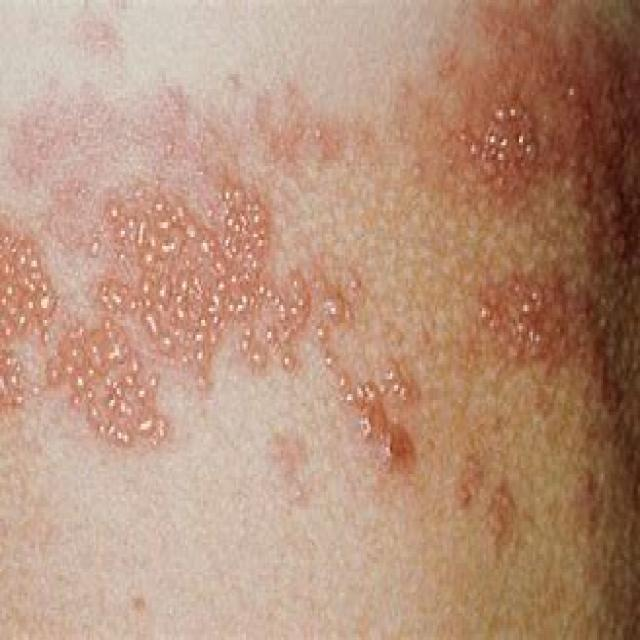Shingles: (0, 182, 414, 456), (463, 262, 587, 376), (462, 91, 554, 192)
